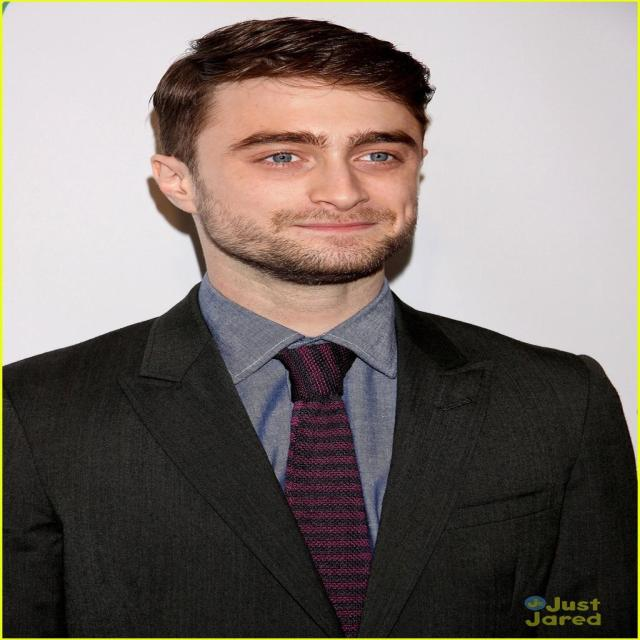Face: (197, 79, 424, 292)
